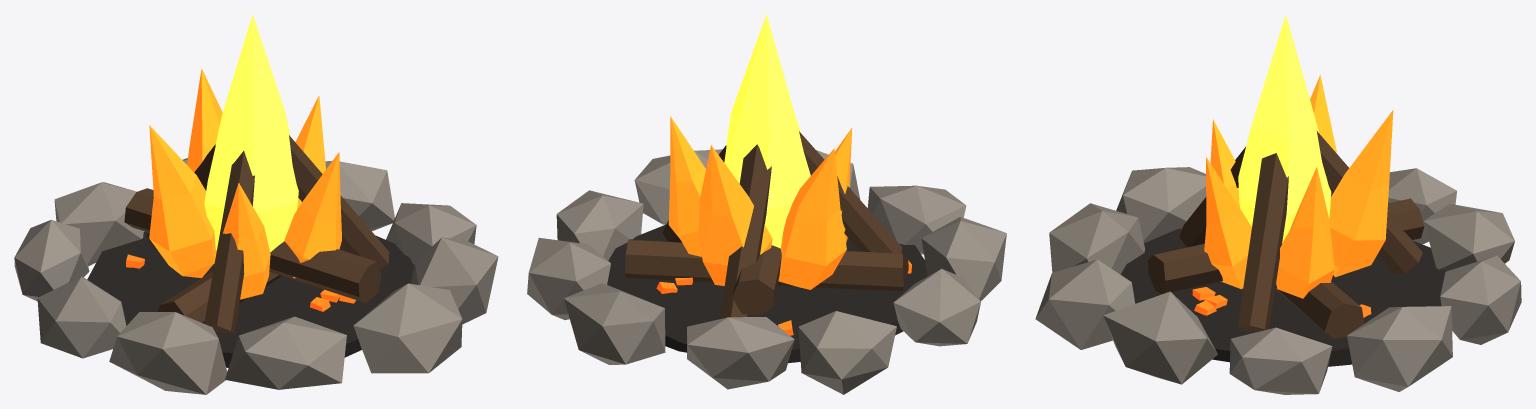
Rendered from campfire.glb.
3 views of the same model, side by side, from view 1: azimuth 30°, elevation 25°; view 2: azimuth 150°, elevation 25°; view 3: azimuth 270°, elevation 25° (orthographic).
Parts seen in each view (by area): view 1: campfire; view 2: campfire; view 3: campfire.
Part boxes in pixels (x1,y1,x2,y2): campfire: (14,14,498,394); campfire: (527,14,1006,394); campfire: (1035,14,1521,394).
Bounding box in the file's own units: 1.56 × 1.1 × 1.58.
